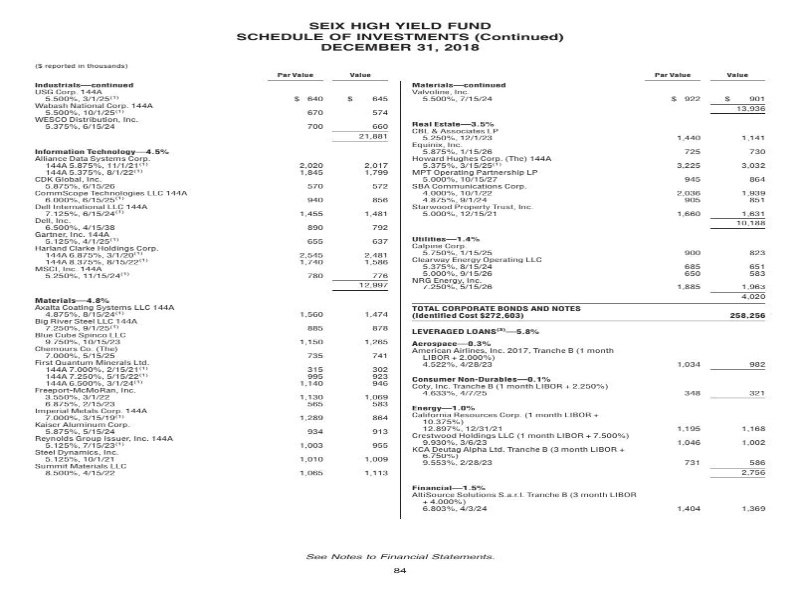table: (25, 55, 409, 542), (394, 66, 787, 532)
